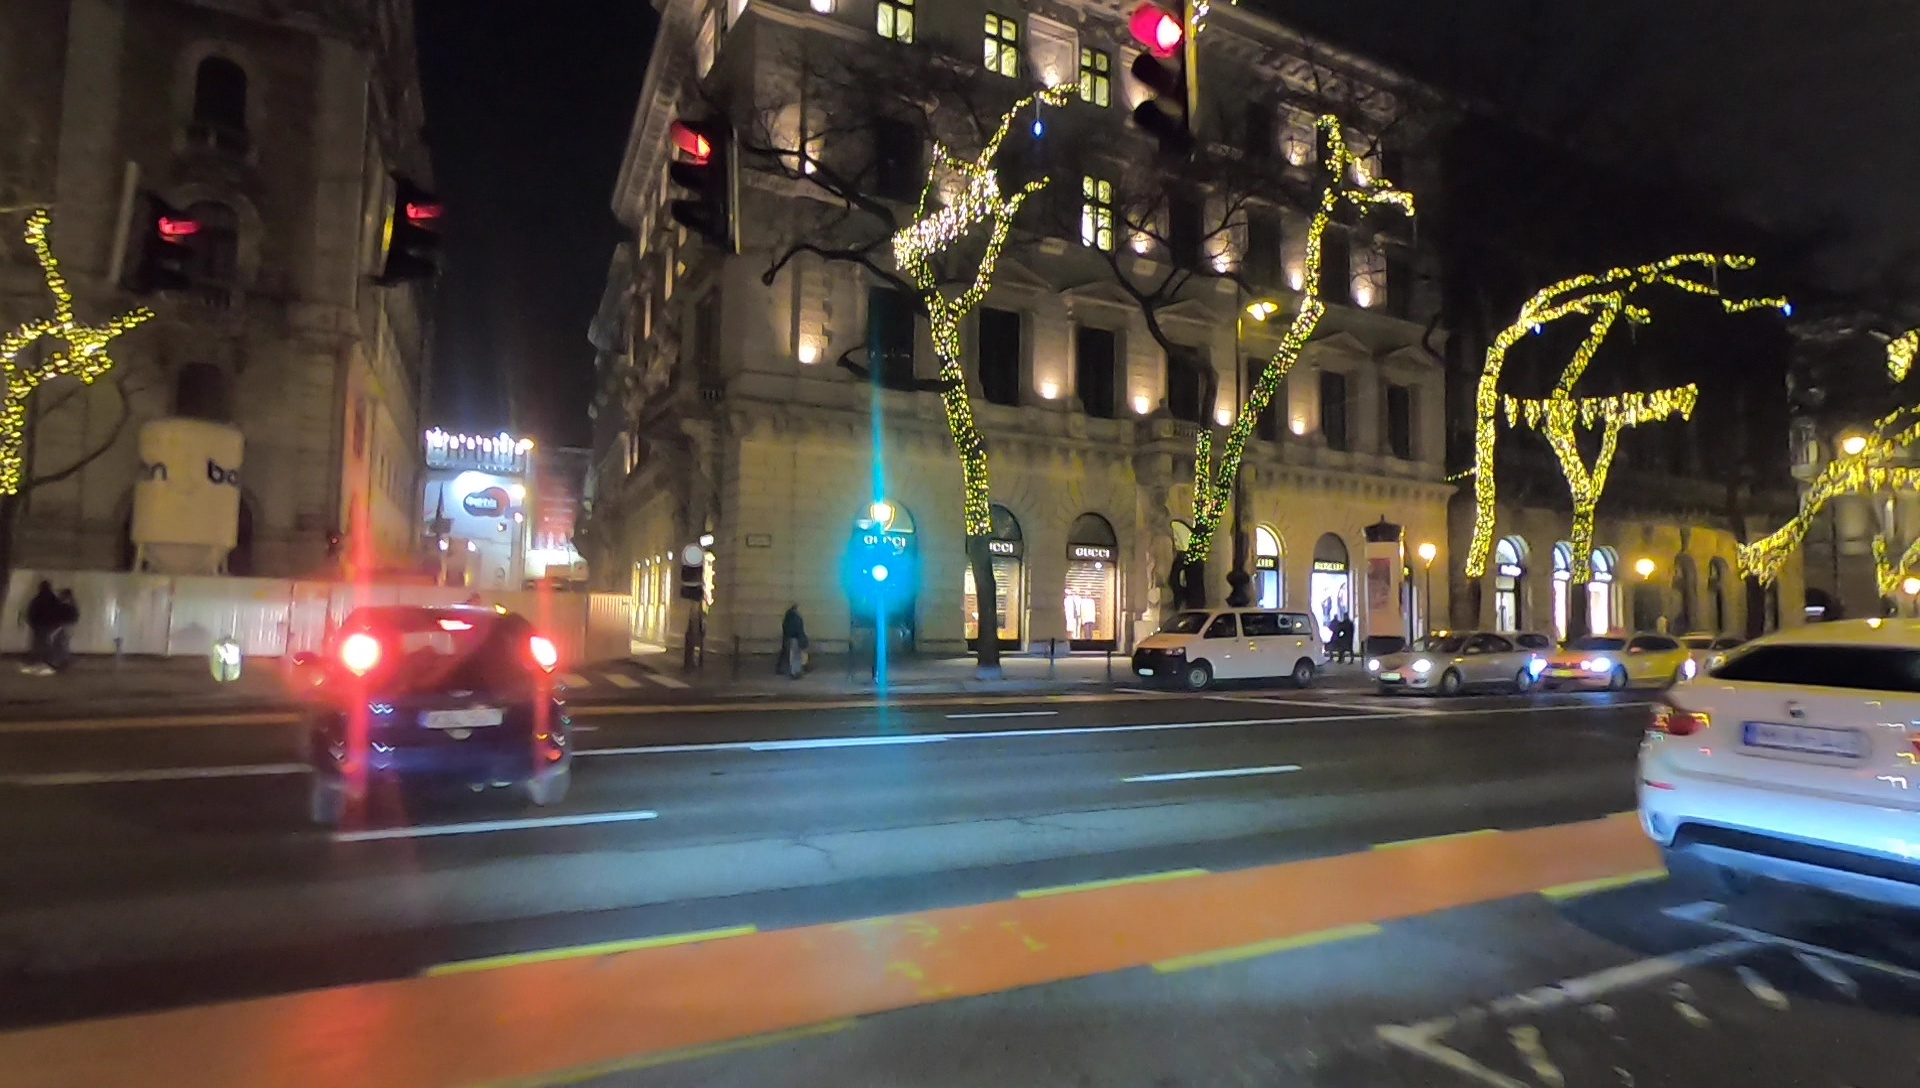person: (18, 579, 54, 672), (777, 605, 813, 678), (53, 583, 78, 673), (1328, 612, 1344, 664), (1340, 611, 1354, 663)
